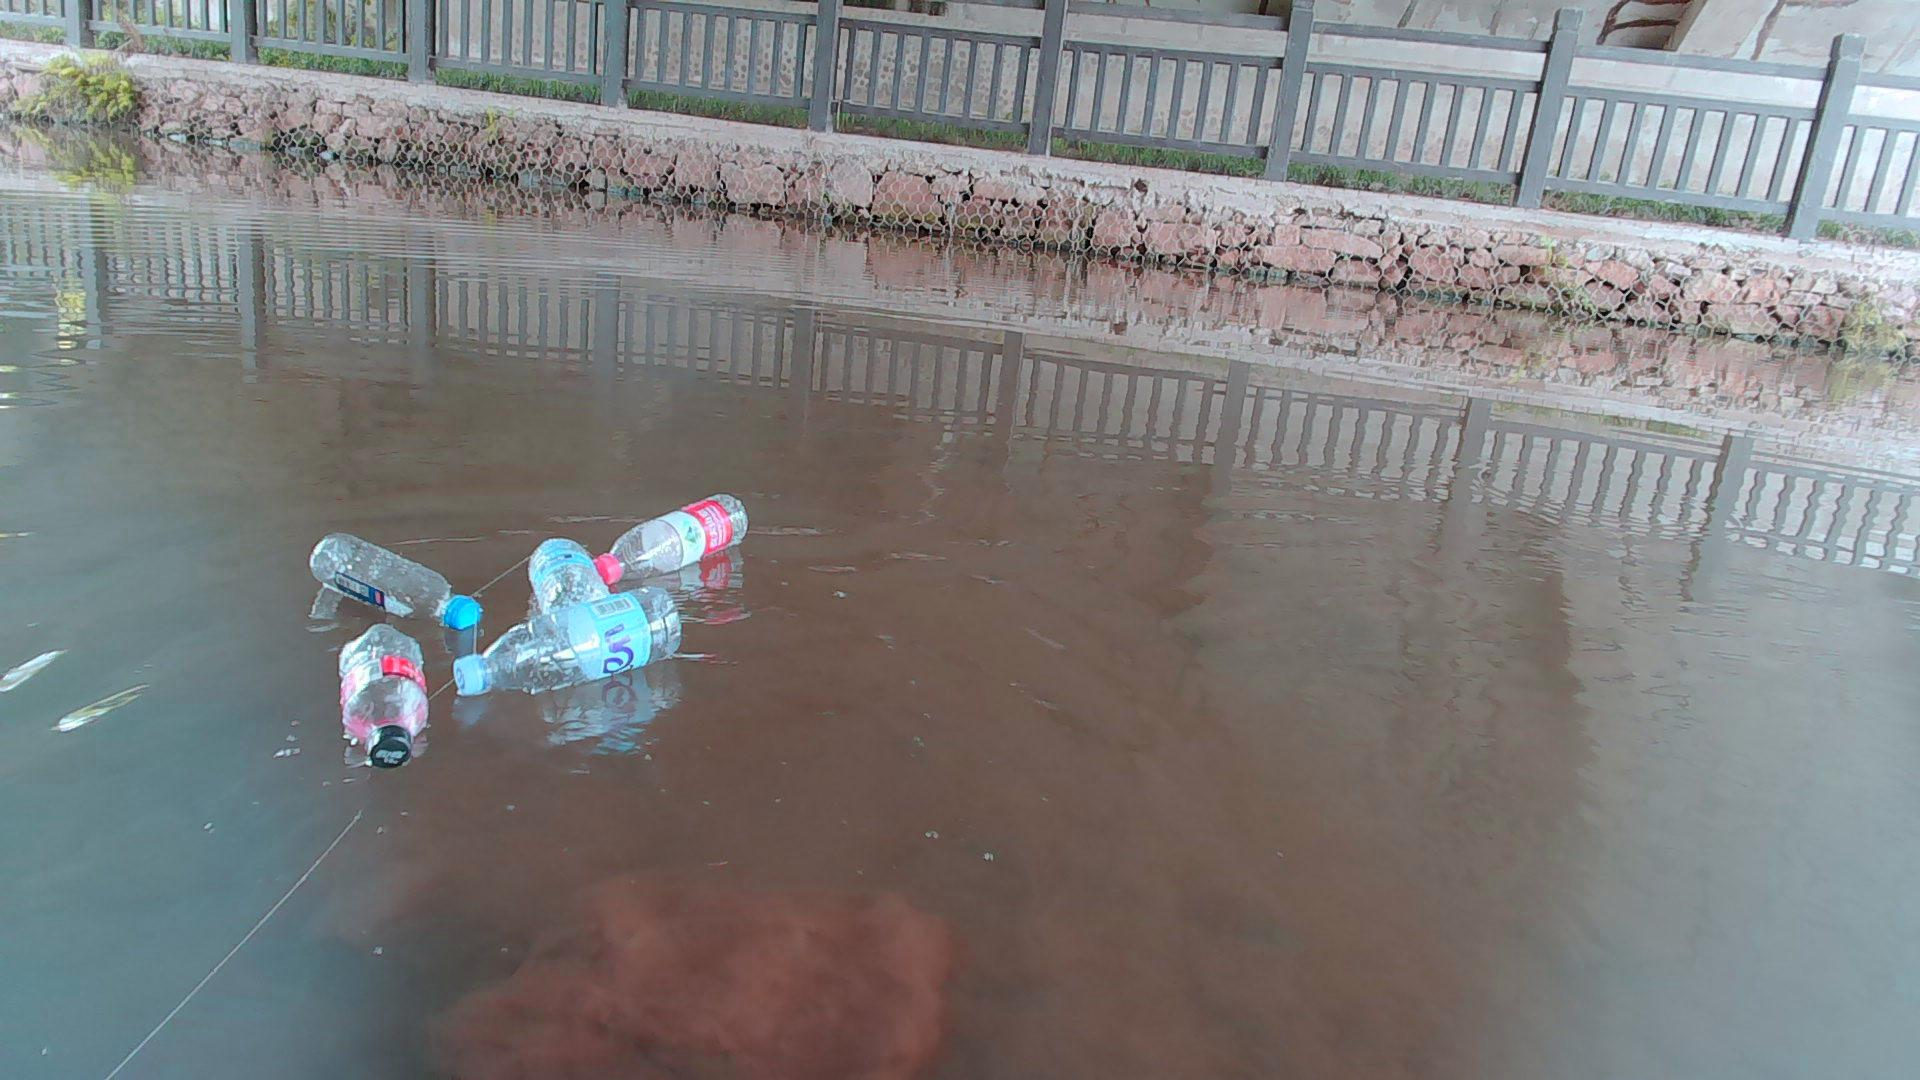Glass: (304, 529, 484, 627)
Plastic: (454, 584, 688, 696), (589, 490, 753, 590), (328, 623, 438, 771), (525, 524, 607, 608)
